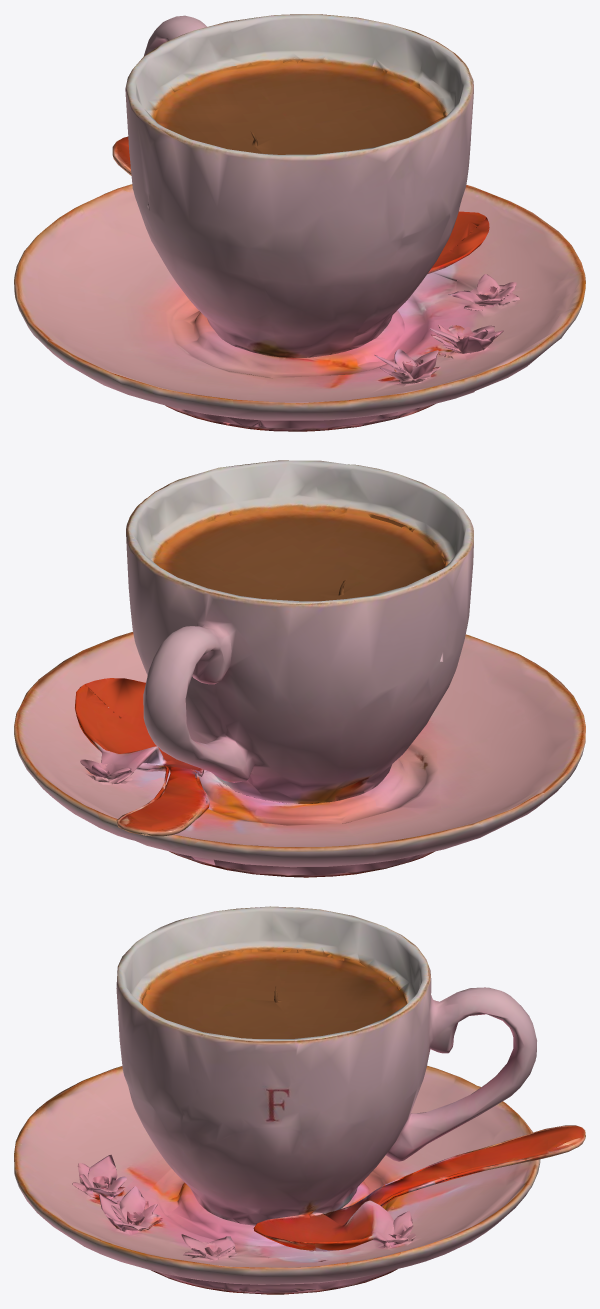
Rendered from cafe_pink-coffee_moecode.glb.
3 renders of one model, top to bottom at view 1: azimuth 30°, elevation 25°; view 2: azimuth 150°, elevation 25°; view 3: azimuth 270°, elevation 25°, orthographic. The views are drawn at different scales.
Visible parts, largest first — view 1: Object_4; view 2: Object_4; view 3: Object_4.
Part boxes in pixels (bbox=[...]): Object_4: bbox=[14, 14, 585, 431]; Object_4: bbox=[14, 460, 585, 877]; Object_4: bbox=[14, 906, 585, 1294].
Bounding box in the file's own units: 0.9263 × 0.486 × 0.9988.
Materials: 1 (1 with a texture image).
